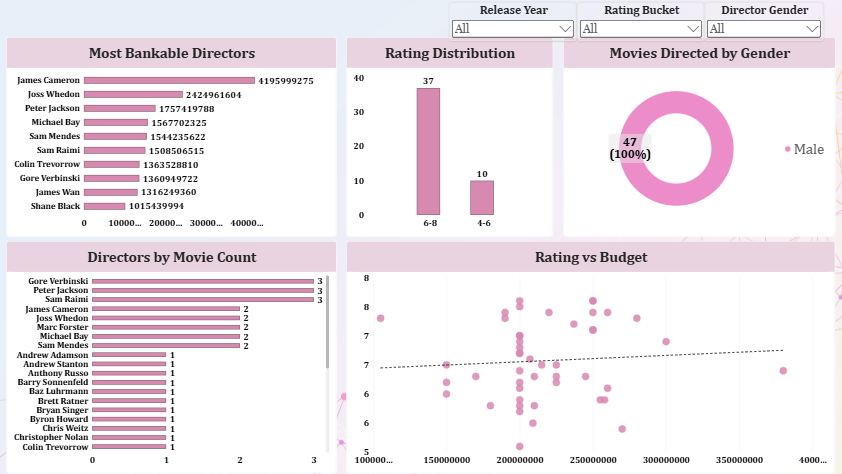

The page's visual inventory and layout, read from the dashboard file:
{"tool":"powerbi","page":{"name":"IMDB MOVIES 2","canvas":[1920,1080],"ordinal":1},"visuals":[{"type":"barChart","title":"Most Bankable Directors ","fields":{"Category":["directors.name"],"Y":["movies.Director Total Profit"]},"box":[15.1,86.4,751.7,453.6],"z":0},{"type":"clusteredColumnChart","title":"Rating Distribution","fields":{"Category":["movies.Rating Bucket"],"Y":["CountNonNull(movies.id)"]},"box":[788.4,86.4,470.9,453.6],"z":1000},{"type":"pieChart","title":"Movies Directed by Gender","fields":{"Category":["directors.Gender Clean"],"Y":["CountNonNull(movies.id)"]},"box":[1280.9,86.4,619.9,453.6],"z":2000},{"type":"barChart","title":"Directors by Movie Count ","fields":{"Category":["directors.name"],"Y":["movies.Movies Per Director"]},"box":[15.1,550.8,751.7,529.2],"z":3000},{"type":"scatterChart","title":"Rating vs Budget ","fields":{"Category":["movies.title"],"X":["Sum(movies.budget)"],"Y":["Sum(movies.vote_average)"]},"box":[788.4,550.8,1112.4,529.2],"z":4000},{"type":"slicer","title":"Release Year","fields":{"Values":["movies.Release Year"]},"box":[1023.8,6.5,290.4,88.8],"z":5000},{"type":"slicer","title":"Rating Bucket","fields":{"Values":["movies.Rating Bucket"]},"box":[1313.3,6.5,290.4,88.8],"z":6000},{"type":"slicer","title":"Director Gender","fields":{"Values":["directors.Gender Clean"]},"box":[1602.7,6.5,272.2,88.6],"z":7000}]}

Visuals, with their boxes in screenshot pixels (x1, y1, x2, y2), scaled from the page's 1920x1080 canvas onto the 842x474 screenshot:
"Most Bankable Directors " barChart: detection(7, 38, 336, 237)
"Rating Distribution" clusteredColumnChart: detection(346, 38, 552, 237)
"Movies Directed by Gender" pieChart: detection(562, 38, 834, 237)
"Directors by Movie Count " barChart: detection(7, 242, 336, 473)
"Rating vs Budget " scatterChart: detection(346, 242, 834, 473)
"Release Year" slicer: detection(449, 3, 576, 42)
"Rating Bucket" slicer: detection(576, 3, 703, 42)
"Director Gender" slicer: detection(703, 3, 822, 42)
